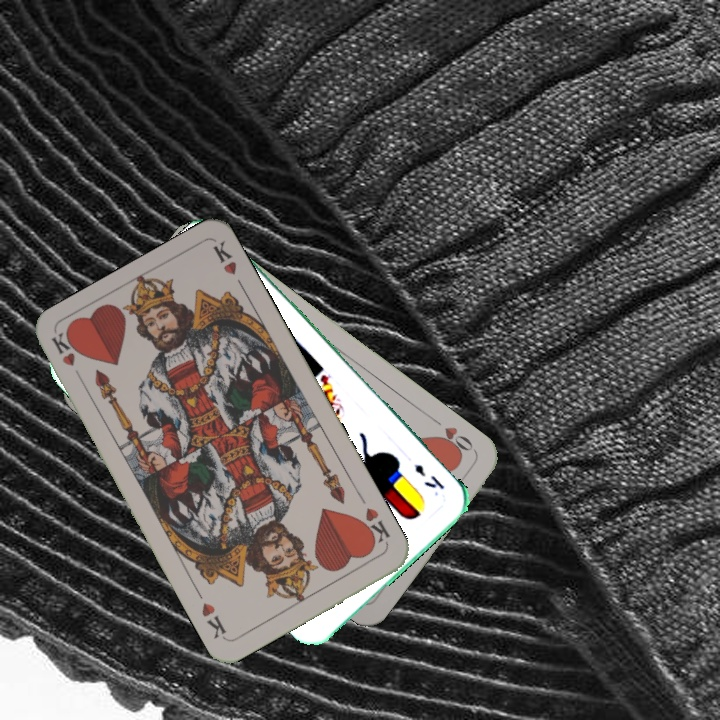EK: (410, 459, 447, 492)
HK: (47, 329, 87, 386), (355, 503, 393, 549)
HO: (428, 413, 477, 459)
